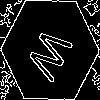W: (25, 25, 80, 88)
